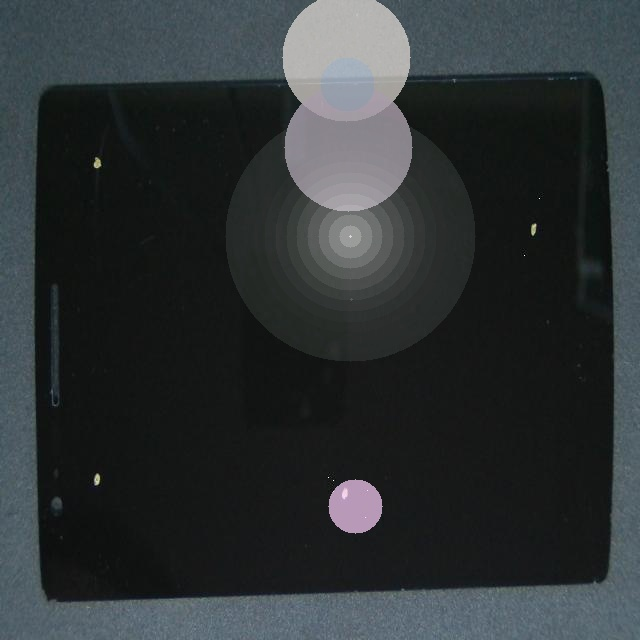stain: (140, 234, 484, 640), (255, 131, 640, 393), (34, 208, 128, 640), (36, 44, 127, 257)
